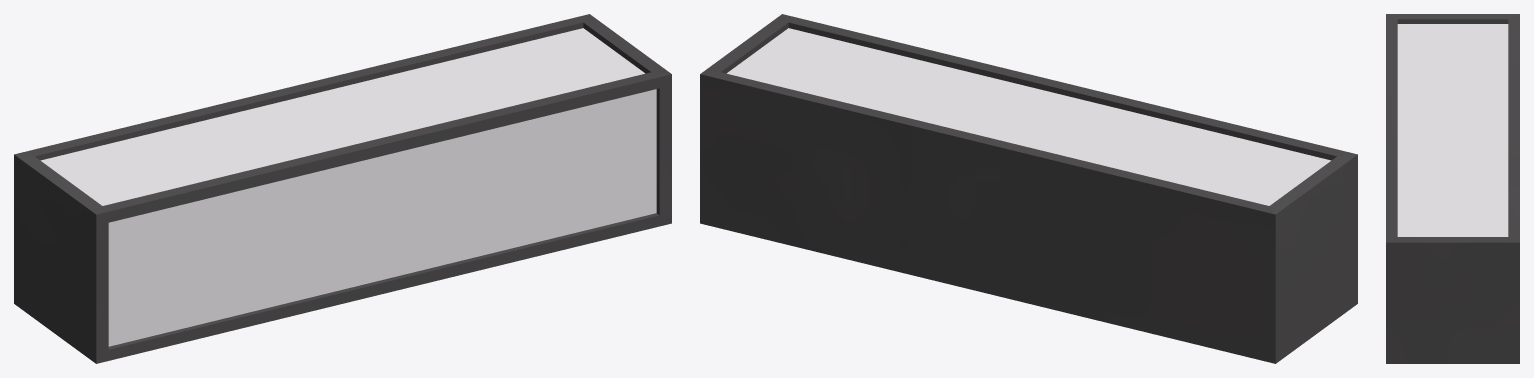
The model's file is sconce_2.fbx.
3 views of the same model, side by side, from view 1: azimuth 30°, elevation 25°; view 2: azimuth 150°, elevation 25°; view 3: azimuth 270°, elevation 25° (orthographic). The views are drawn at different scales.
Parts seen in each view (by area): view 1: pCube53; view 2: pCube53; view 3: pCube53.
Boxes of the visible parts, left/top/right/bottom form: pCube53: left=14, top=14, right=671, bottom=363; pCube53: left=700, top=14, right=1357, bottom=363; pCube53: left=1386, top=14, right=1519, bottom=363.
Size of the model in its own units: 48.9 by 12.12 by 12.09.
Materials: 1 (1 with a texture image).
